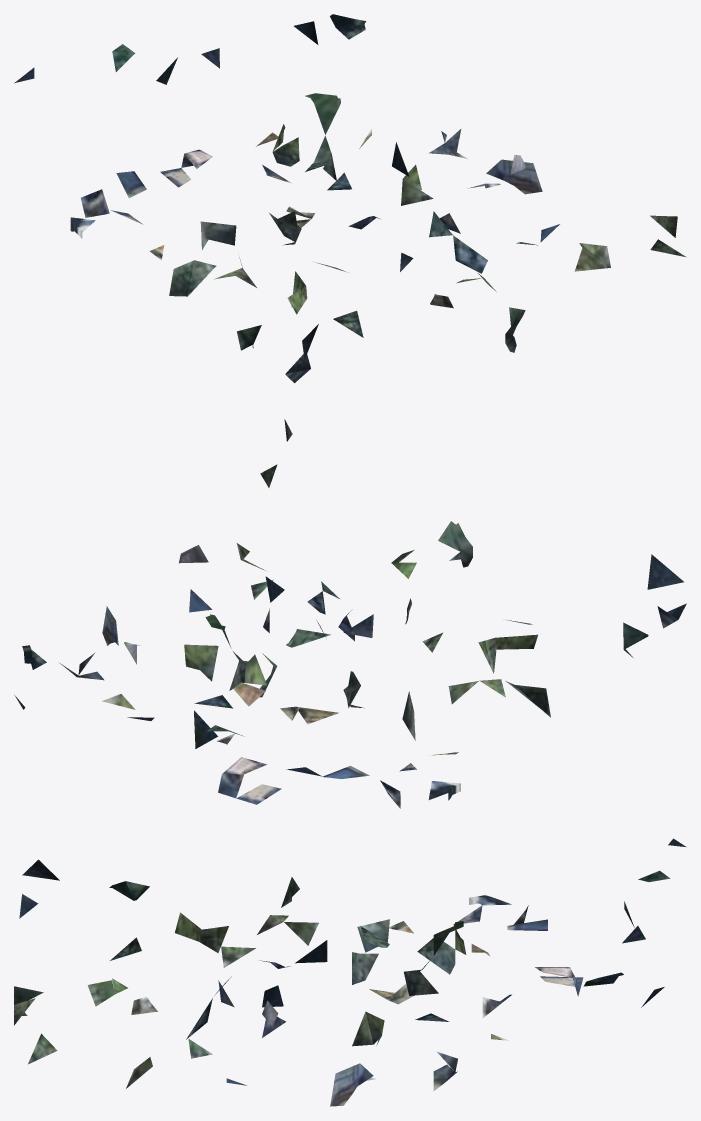
The picture shows the model from 3 angles, top to bottom: view 1: azimuth 30°, elevation 25°; view 2: azimuth 150°, elevation 25°; view 3: azimuth 270°, elevation 25°; orthographic projection. The views are drawn at different scales.
Visible parts, largest first — view 1: 30436272704361717712_1; view 2: 30436272704361717712_1; view 3: 30436272704361717712_1.
Part boxes in pixels (x1=…): 30436272704361717712_1: x1=14, y1=14, x2=686, y2=383; 30436272704361717712_1: x1=14, y1=419, x2=686, y2=808; 30436272704361717712_1: x1=14, y1=838, x2=686, y2=1106.
Bounding box in the file's own units: 27 × 6.48 × 38.1.
1 material, 1 textured.
